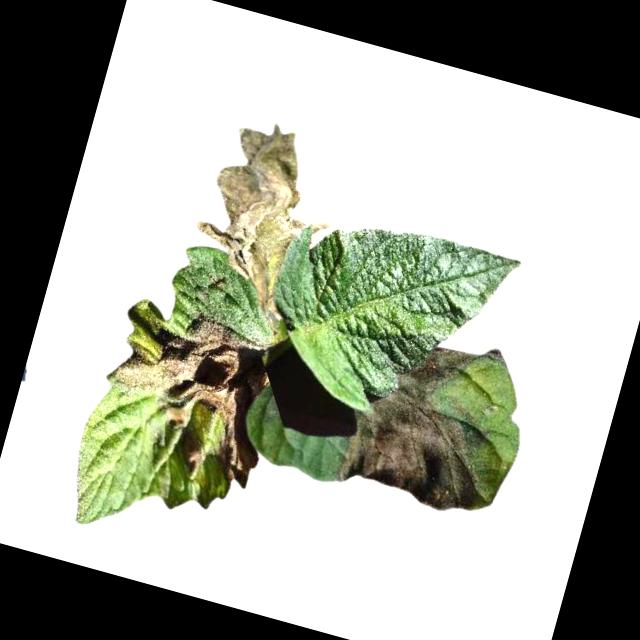Late_blight: (177, 108, 356, 325), (335, 328, 528, 525), (106, 293, 258, 419), (208, 352, 284, 490), (175, 434, 208, 471), (159, 402, 188, 430)
healthy: (246, 197, 521, 442)
